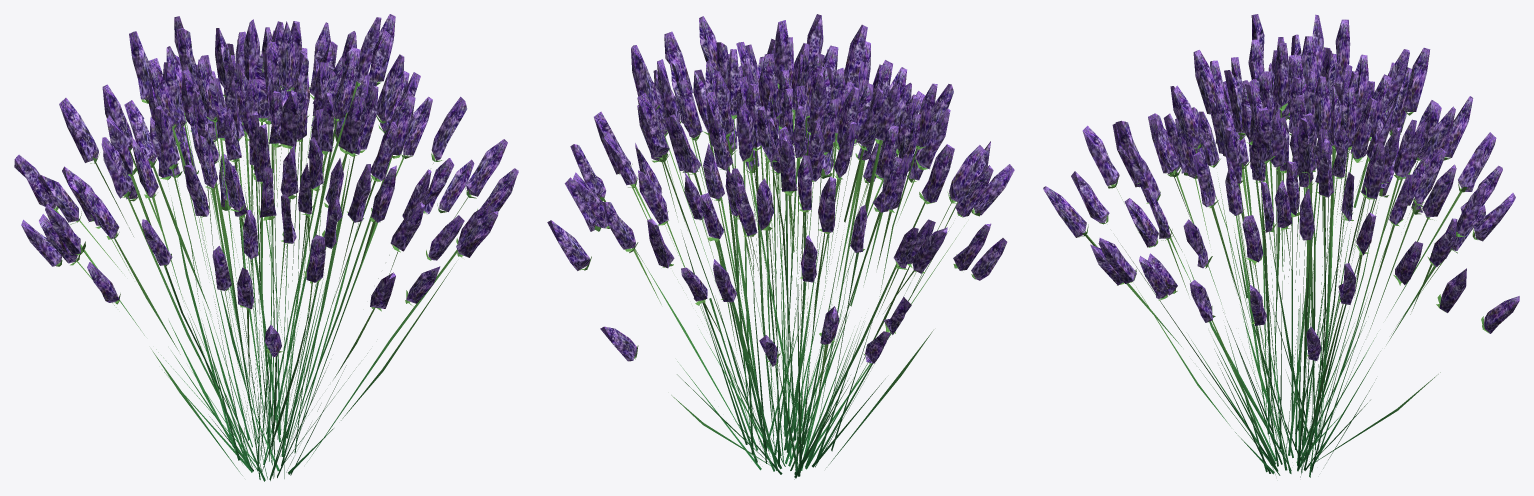
Rendered from sh-scopia-lavender-bush.glb.
3 renders of one model, left to right at view 1: azimuth 30°, elevation 25°; view 2: azimuth 150°, elevation 25°; view 3: azimuth 270°, elevation 25°, orthographic. The views are drawn at different scales.
Parts seen in each view (by area): view 1: LavenderLow.007; view 2: LavenderLow.007; view 3: LavenderLow.007.
Part boxes in pixels (x1,y1,x2,y2): LavenderLow.007: (14, 14, 518, 481); LavenderLow.007: (547, 14, 1014, 479); LavenderLow.007: (1043, 14, 1519, 477).
Bounding box in the file's own units: 1 × 0.9982 × 0.9885.
Materials: 3 (3 with a texture image).
